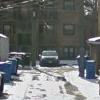Car: (35, 43, 70, 71)
